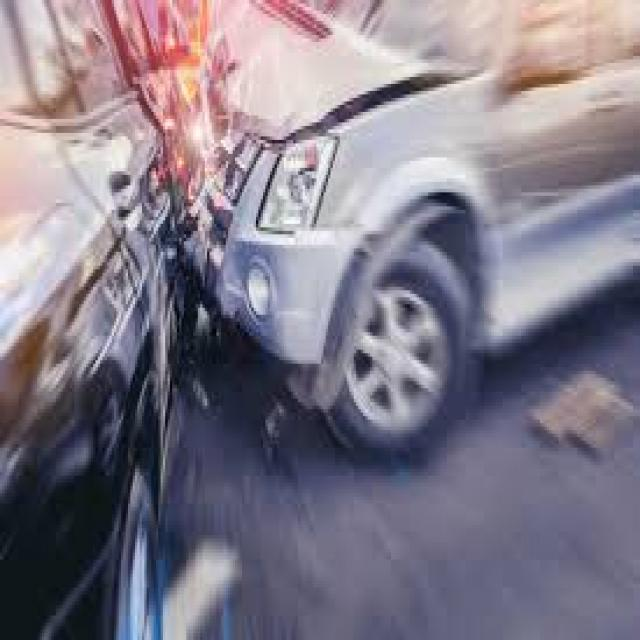accident: (62, 33, 456, 484)
